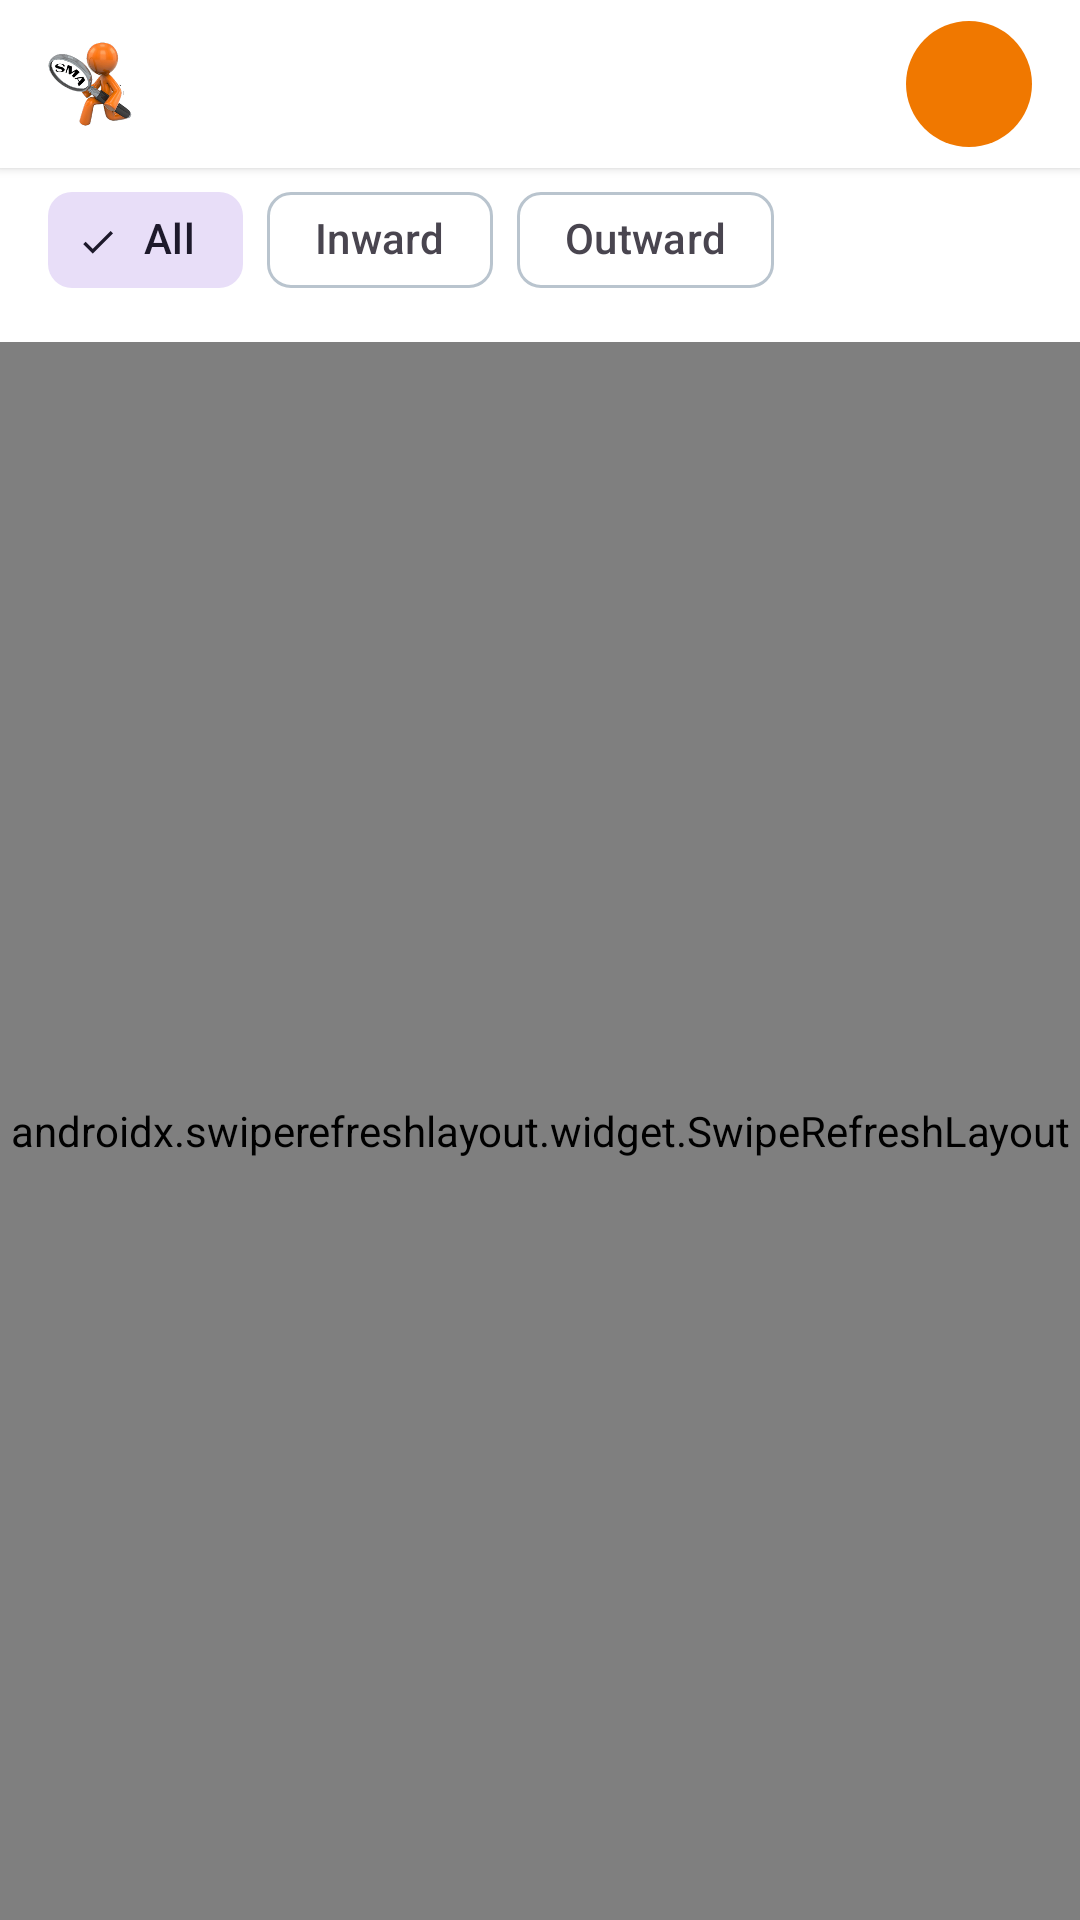

Where to tap for icons on this 1080px x 1920px app screen, as point (x, y):
brand mark: point (89, 84)
